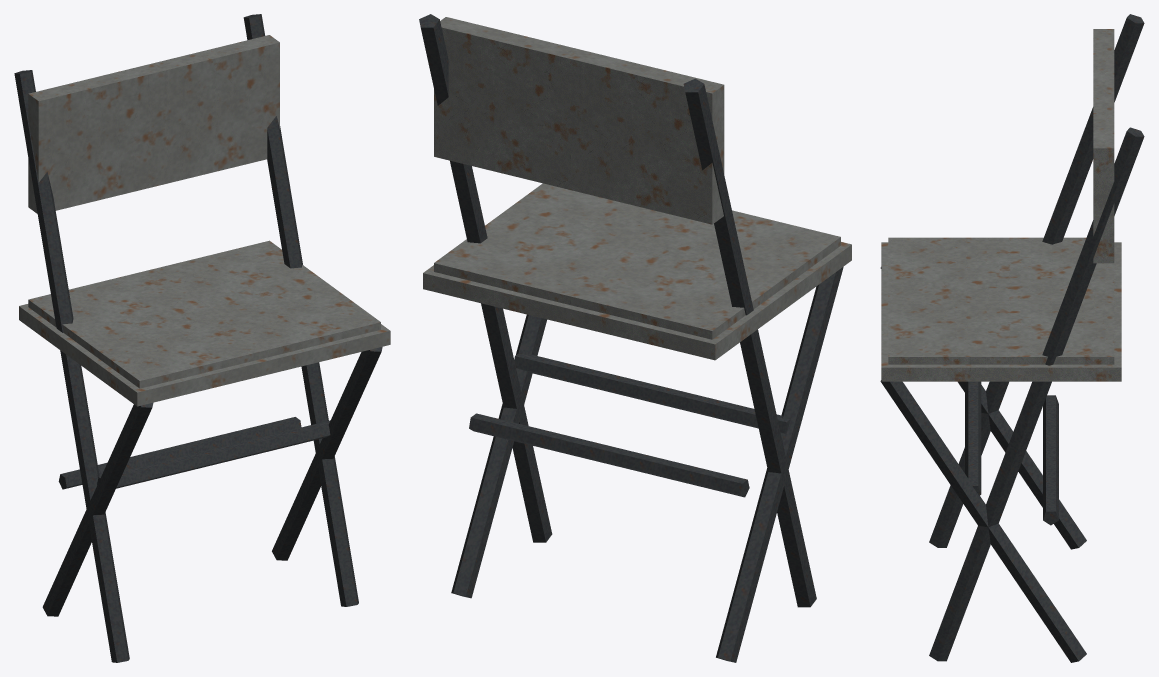
The model's file is folding_chair.glb.
The picture shows the model from 3 angles, left to right: view 1: azimuth 30°, elevation 25°; view 2: azimuth 150°, elevation 25°; view 3: azimuth 270°, elevation 25°; orthographic projection. The views are drawn at different scales.
Visible parts, largest first — view 1: folding_chair; view 2: folding_chair; view 3: folding_chair.
Part boxes in pixels (box(x1,y1,x2,y2)): folding_chair: box(14, 14, 390, 662); folding_chair: box(419, 14, 851, 662); folding_chair: box(880, 14, 1144, 662).
Bounding box in the file's own units: 0.42 × 0.8313 × 0.3739.
Materials: 2 (2 with a texture image).
